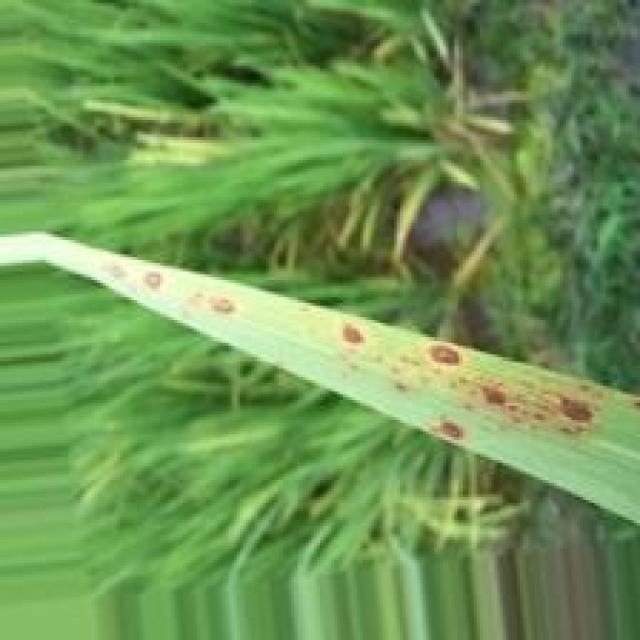Brown_Spot: (547, 394, 596, 431), (468, 380, 510, 407), (417, 342, 464, 365), (423, 417, 465, 442), (339, 320, 370, 348), (202, 293, 239, 316), (140, 266, 166, 293)
